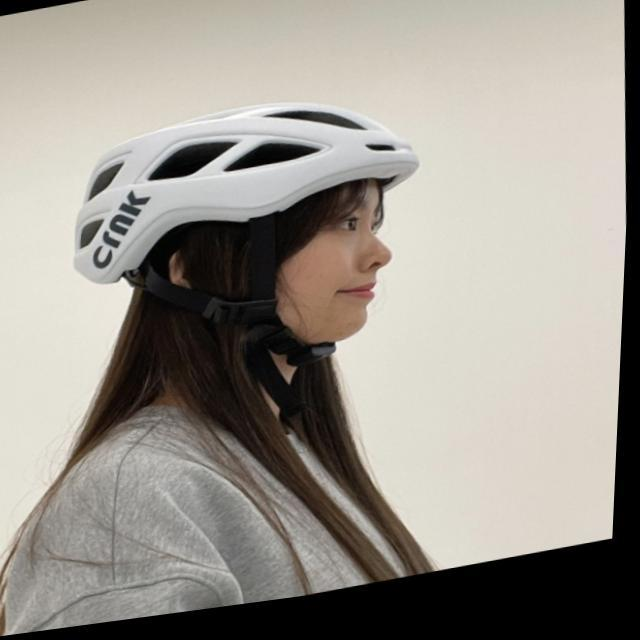Helmet: (70, 99, 420, 347)
